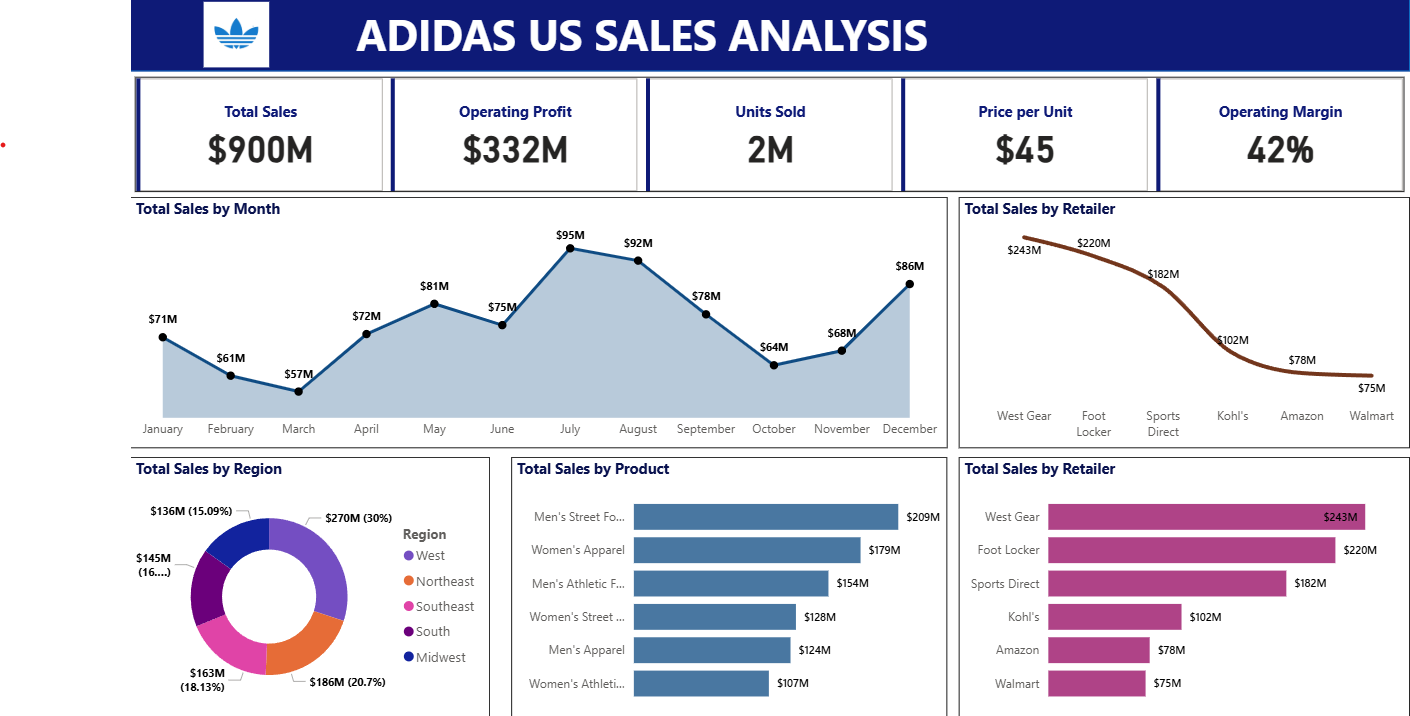

The page's visual inventory and layout, read from the dashboard file:
{"tool":"powerbi","page":{"name":"Page 1","canvas":[1280,720],"ordinal":0},"visuals":[{"type":"shape","box":[0,0,1280,74.6],"z":0},{"type":"textbox","box":[221.2,2.5,607.5,70],"z":1000},{"type":"cardVisual","fields":{"Data":["Sum(Sales Adidas.Total Sales)","Sum(Sales Adidas.Operating Profit)","Sum(Sales Adidas.Units Sold)","Avg(Sales Adidas.Price per Unit)","Avg(Sales Adidas.Operating Margin)"]},"box":[0,75,1280,125],"z":2000},{"type":"areaChart","title":"Total Sales by Month","fields":{"Category":["Sales Adidas.Invoice Date.Variation.Date Hierarchy.Month"],"Y":["Sum(Sales Adidas.Total Sales)"]},"box":[0,200,817.5,251.2],"z":3000},{"type":"donutChart","title":"Total Sales by Region","fields":{"Category":["Sales Adidas.Region"],"Y":["Sum(Sales Adidas.Total Sales)"]},"box":[0,460,360,260],"z":4000},{"type":"barChart","title":"Total Sales by Product","fields":{"Y":["Sum(Sales Adidas.Total Sales)"],"Category":["Sales Adidas.Product"]},"box":[381.2,460,436.2,260],"z":5000},{"type":"barChart","title":"Total Sales by Retailer","fields":{"Y":["Sum(Sales Adidas.Total Sales)"],"Category":["Sales Adidas.Retailer"]},"box":[828.8,460,451.2,260],"z":6000},{"type":"lineChart","title":"Total Sales by Retailer","fields":{"Category":["Sales Adidas.Retailer"],"Y":["Sum(Sales Adidas.Total Sales)"]},"box":[828.8,200,451.2,251.2],"z":7000},{"type":"image","box":[0,0,212.5,75],"z":7002}]}

Visuals, with their boxes in screenshot pixels (x1, y1, x2, y2):
shape: (left=125, top=0, right=1409, bottom=69)
textbox: (left=350, top=0, right=967, bottom=66)
cardVisual - Sum(Sales Adidas.Total Sales) x Sum(Sales Adidas.Operating Profit): (left=125, top=69, right=1409, bottom=196)
"Total Sales by Month" areaChart: (left=125, top=196, right=956, bottom=451)
"Total Sales by Region" donutChart: (left=125, top=460, right=491, bottom=715)
"Total Sales by Product" barChart: (left=512, top=460, right=956, bottom=715)
"Total Sales by Retailer" barChart: (left=968, top=460, right=1409, bottom=715)
"Total Sales by Retailer" lineChart: (left=968, top=196, right=1409, bottom=451)
image: (left=125, top=0, right=341, bottom=69)
